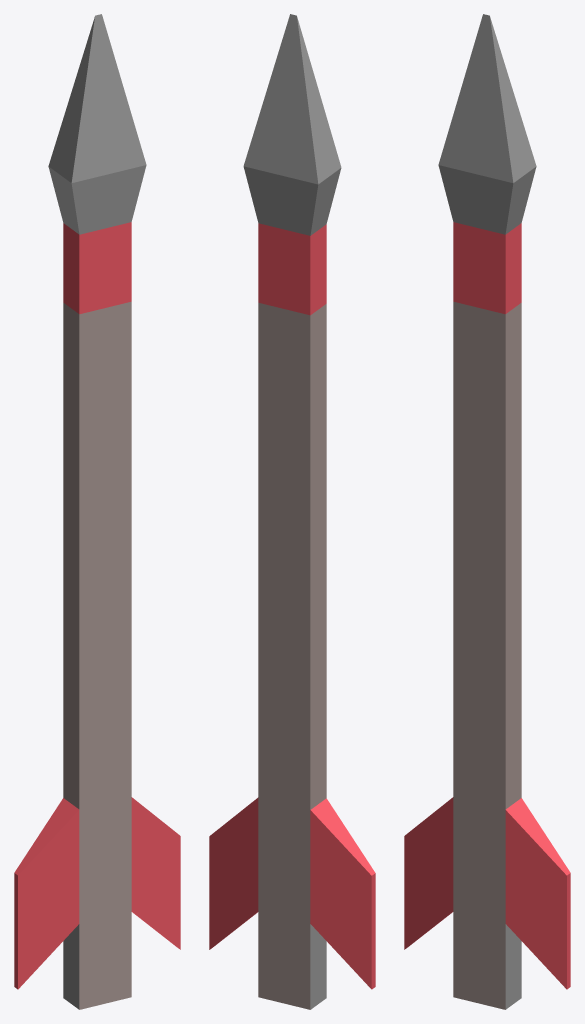
File: Arrow Projectile.fbx
3 views of the same model, side by side, from view 1: azimuth 30°, elevation 25°; view 2: azimuth 150°, elevation 25°; view 3: azimuth 330°, elevation 25° (orthographic).
Visible parts, largest first — view 1: Cube.001; view 2: Cube.001; view 3: Cube.001.
Part boxes in pixels (<box>): Cube.001: <box>14,14,180,1009</box>; Cube.001: <box>209,14,375,1009</box>; Cube.001: <box>404,14,570,1009</box>.
Bounding box in the file's own units: 29.45 × 170 × 7.27.
